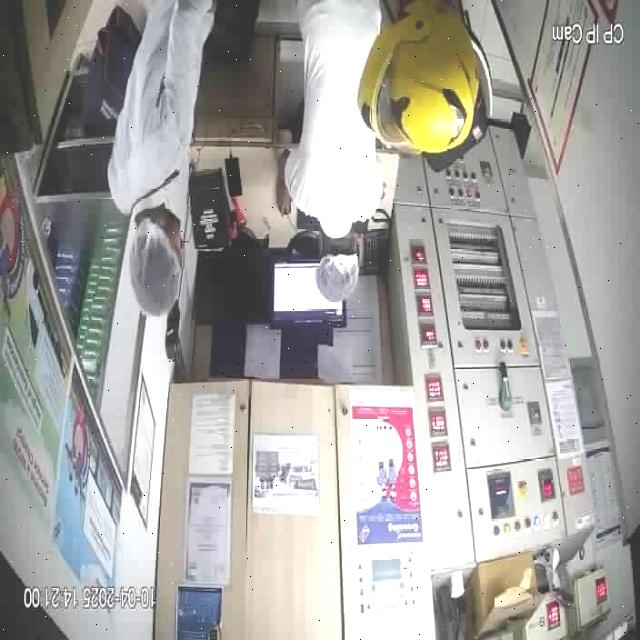helmet: (359, 2, 476, 150)
no_helmet: (130, 203, 185, 317), (314, 235, 359, 304)
